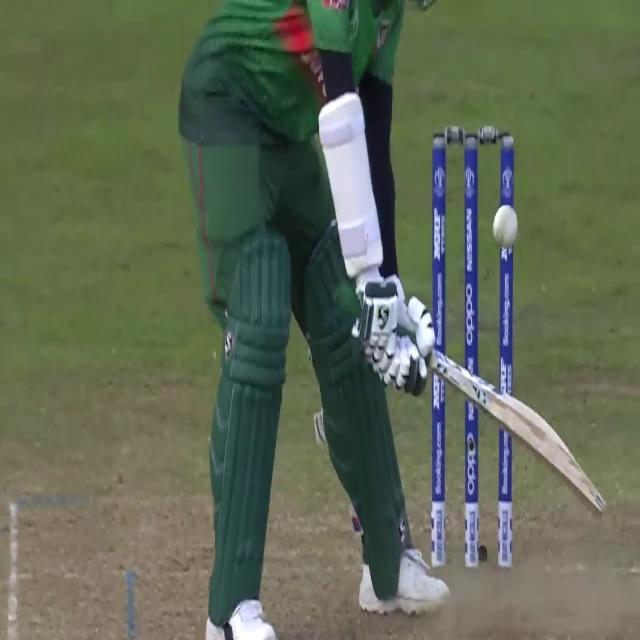ball: (487, 194, 522, 258)
